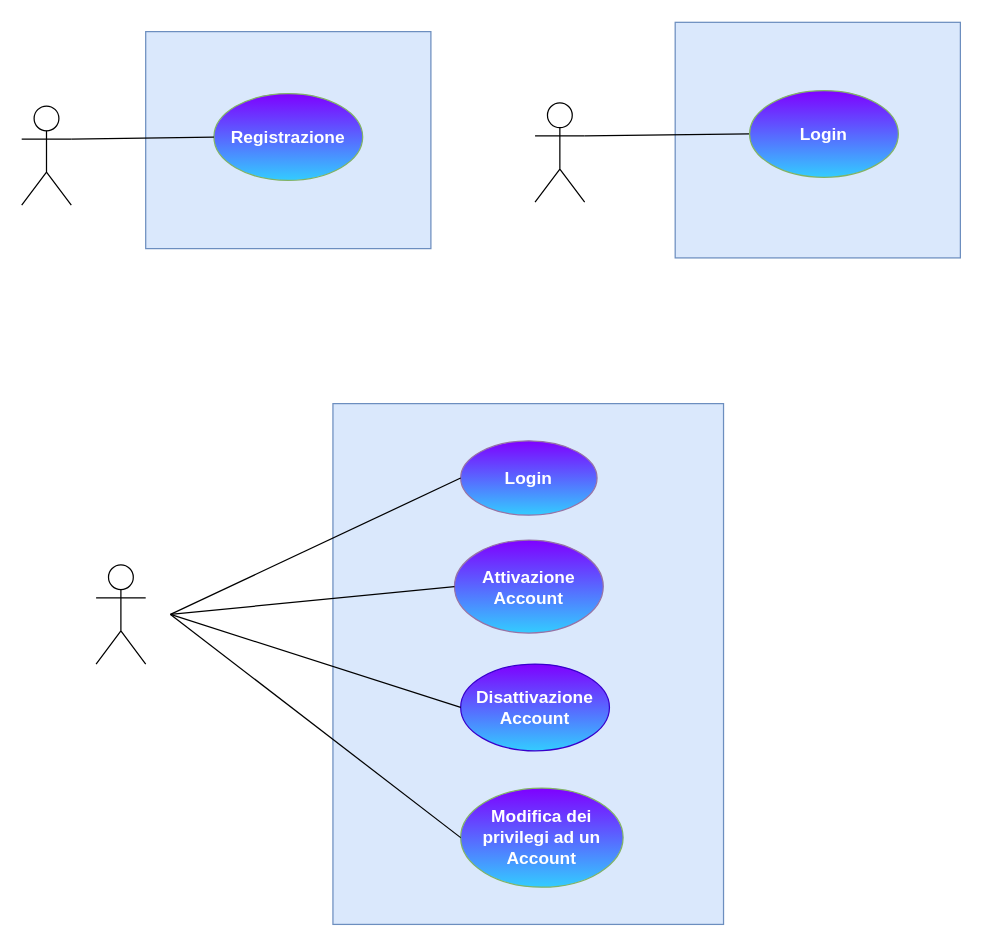
Image size: 982x946. Some labels were removed from this diagram. The centre of each missing label's shape, as x and y in pixels:
Amministratore: the point at 120,614
Utente: the point at 45,155
UtenteUser: the point at 559,152
